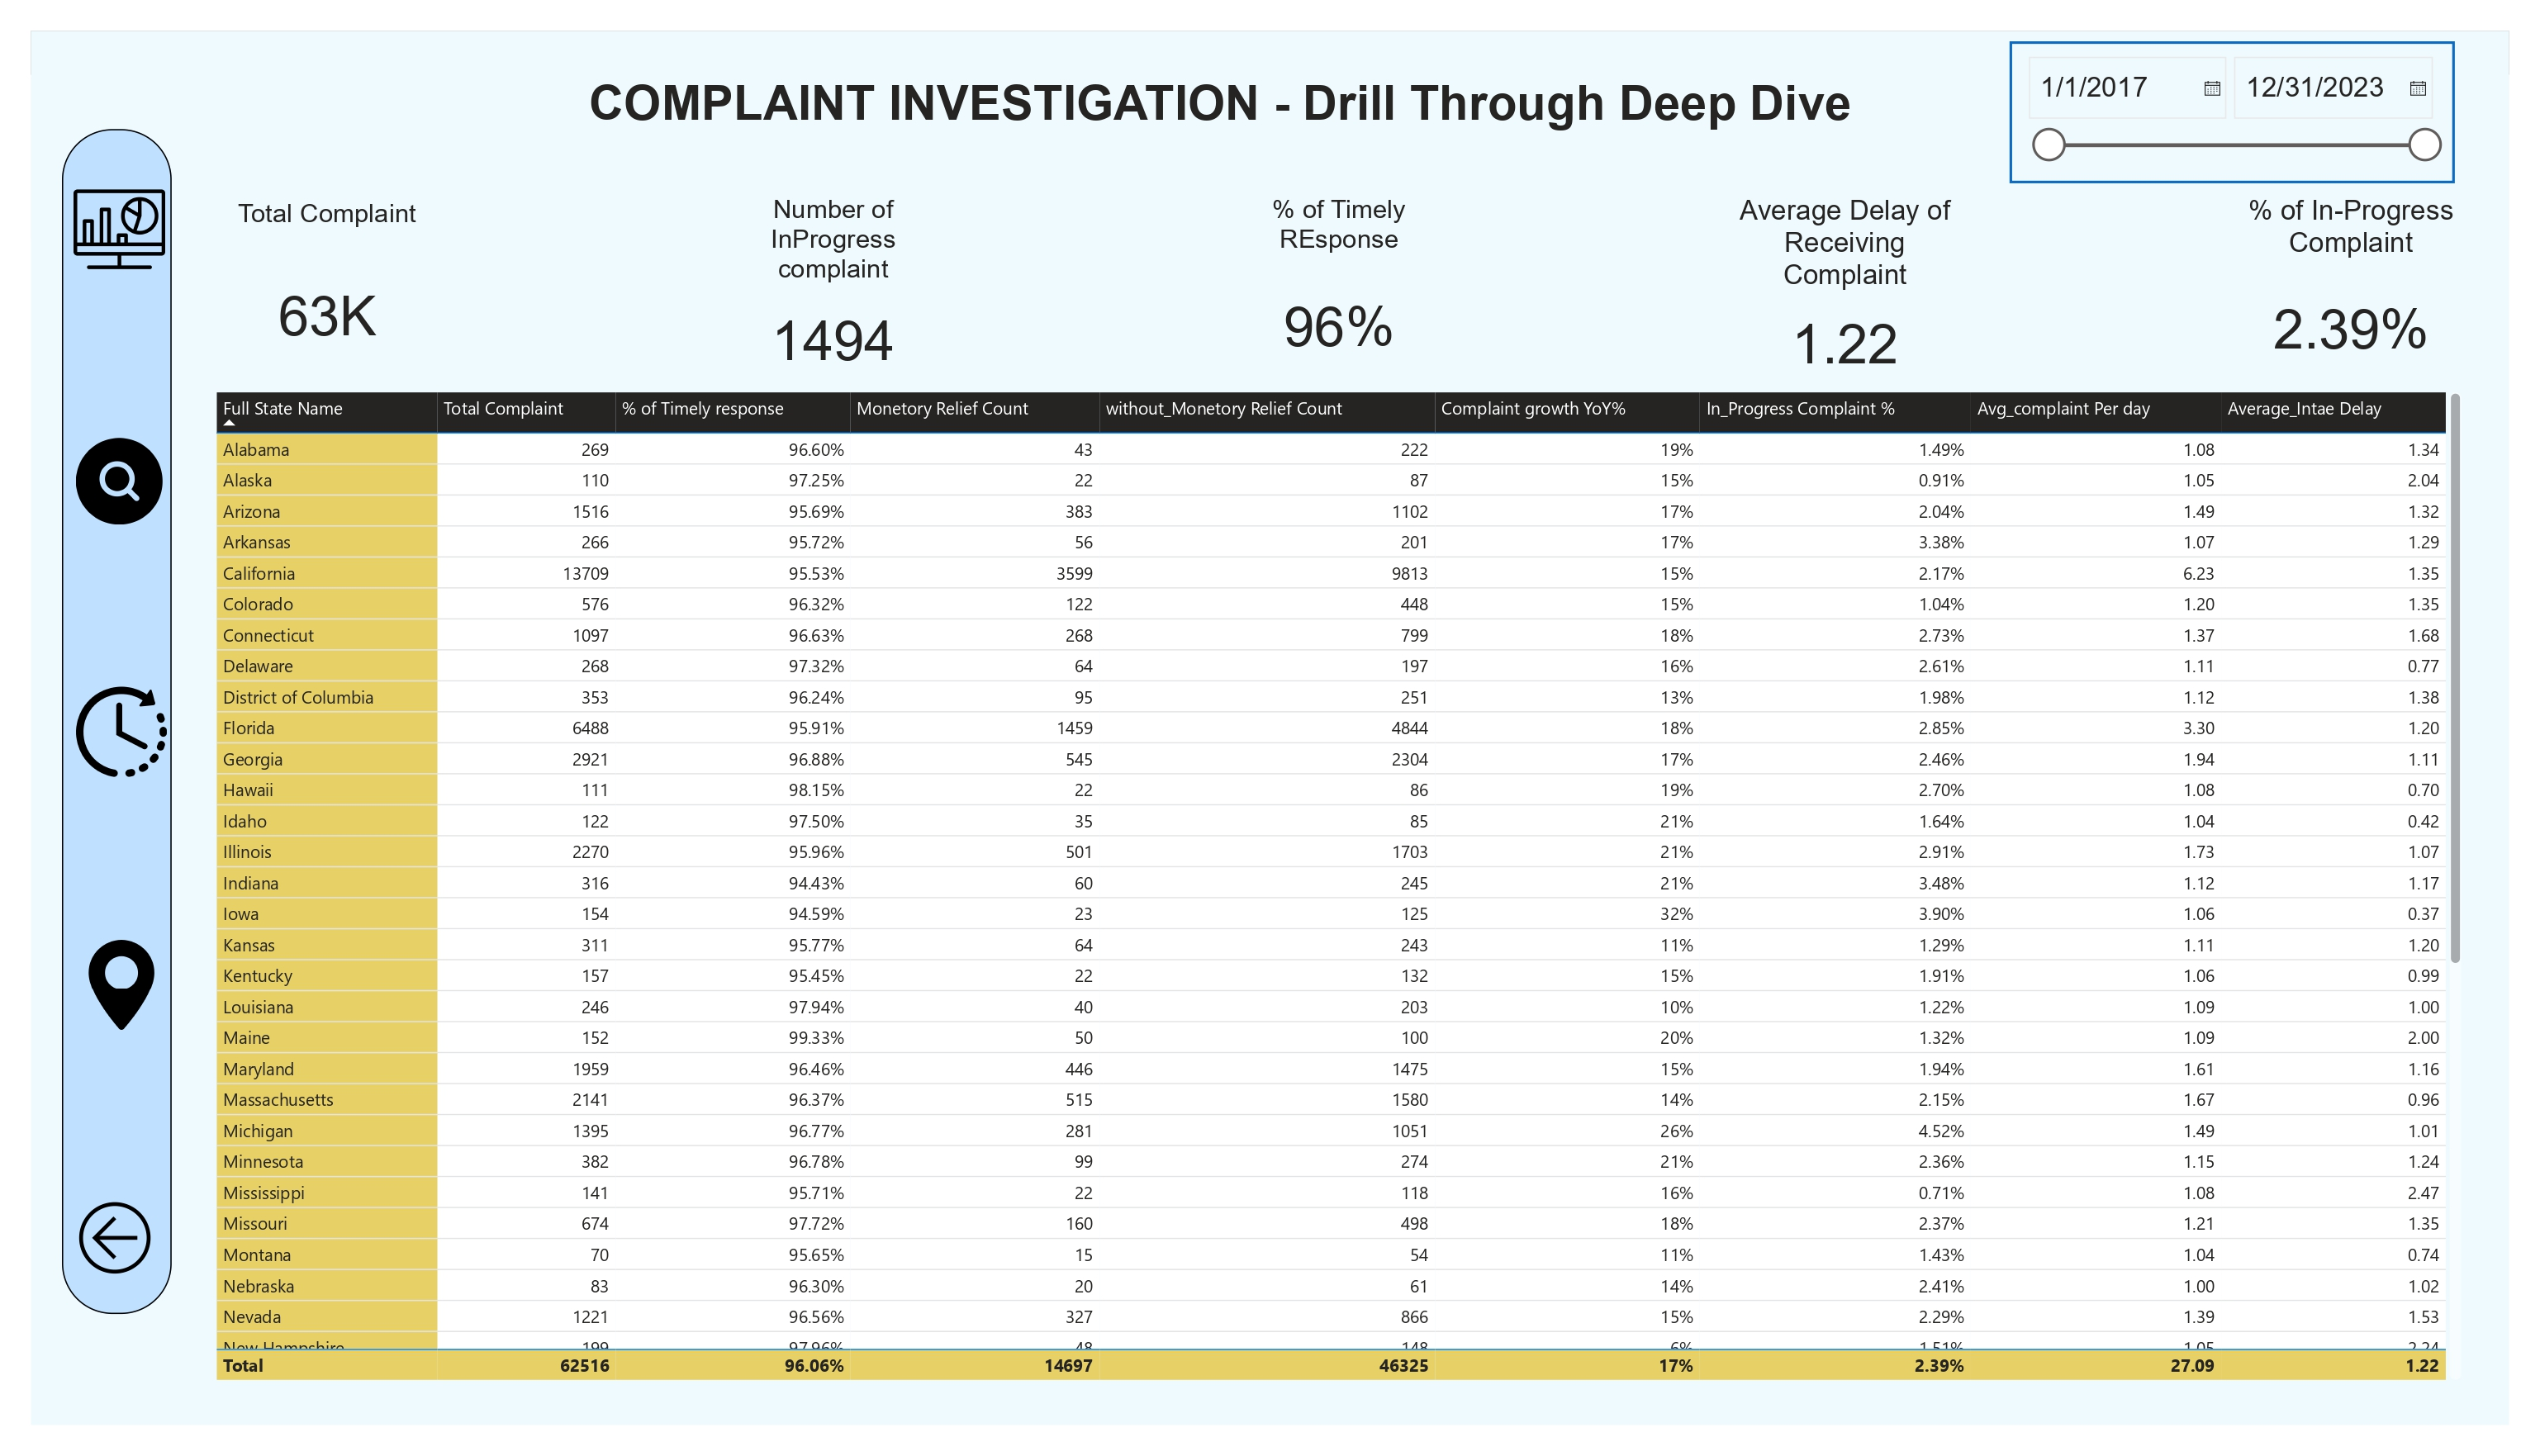

This screenshot's page, from the dashboard's own definition file:
{"tool":"powerbi","page":{"name":"DETAILS","canvas":[1920,1080],"ordinal":5},"visuals":[{"type":"textbox","box":[340,30,1162.5,62.5],"z":0},{"type":"shape","box":[23.8,75.6,85,918],"z":1000},{"type":"image","box":[32.5,117.5,71.3,71.3],"z":3000},{"type":"image","box":[35,508.1,70,70],"z":4000},{"type":"image","box":[35,704.1,70,70],"z":5000},{"type":"image","box":[32.5,314.7,70,67.5],"z":6000},{"type":"actionButton","box":[30,900,72.5,70],"z":7000},{"type":"slicer","title":"Date Range","fields":{"Values":["Dim_Date.Date"]},"box":[1532.5,7.5,345,110],"z":8000},{"type":"card","title":"Total Complaint","fields":{"Values":["Fact_Customer_Complaint.Total Complaint"]},"box":[137.5,129.8,183.3,144],"z":9000},{"type":"card","title":"% of Timely REsponse","fields":{"Values":["Fact_Customer_Complaint.% of Timely response"]},"box":[921.9,127,183,144],"z":10000},{"type":"card","title":"Number of InProgress complaint","fields":{"Values":["Fact_Customer_Complaint.In_Progress Complaint"]},"box":[529.9,127,183,144],"z":11000},{"type":"card","title":"% of In-Progress Complaint","fields":{"Values":["Fact_Customer_Complaint.In_Progress Complaint %"]},"box":[1706,127,183,144],"z":12000},{"type":"card","title":"Average Delay of Receiving Complaint","fields":{"Values":["Fact_Customer_Complaint.Average_Intae Delay"]},"box":[1314,127.3,183,144],"z":13000},{"type":"tableEx","fields":{"Values":["Dim_State.Full State Name","Fact_Customer_Complaint.Total Complaint","Fact_Customer_Complaint.% of Timely response","Fact_Customer_Complaint.Monetory Relief Count","Fact_Customer_Complaint.without_Monetory Relief Count","Fact_Customer_Complaint.Complaint growth YoY%","Fact_Customer_Complaint.In_Progress Complaint %","Fact_Customer_Complaint.Avg_complaint Per day","Fact_Customer_Complaint.Average_Intae Delay"]},"box":[137.5,275,1750,775],"z":14000}]}

Visuals, with their boxes on the page's 1920x1080 design canvas (x1, y1, x2, y2). These are canvas units, not pixel positions in the 2540x1456 screenshot, which may show the page scaled, cropped or inside an application window:
textbox: (left=340, top=30, right=1502, bottom=92)
shape: (left=24, top=76, right=109, bottom=994)
image: (left=32, top=118, right=104, bottom=189)
image: (left=35, top=508, right=105, bottom=578)
image: (left=35, top=704, right=105, bottom=774)
image: (left=32, top=315, right=102, bottom=382)
actionButton: (left=30, top=900, right=102, bottom=970)
"Date Range" slicer: (left=1532, top=8, right=1878, bottom=118)
"Total Complaint" card: (left=138, top=130, right=321, bottom=274)
"% of Timely REsponse" card: (left=922, top=127, right=1105, bottom=271)
"Number of InProgress complaint" card: (left=530, top=127, right=713, bottom=271)
"% of In-Progress Complaint" card: (left=1706, top=127, right=1889, bottom=271)
"Average Delay of Receiving Complaint" card: (left=1314, top=127, right=1497, bottom=271)
tableEx - Dim_State.Full State Name x Fact_Customer_Complaint.Total Complaint: (left=138, top=275, right=1888, bottom=1050)
